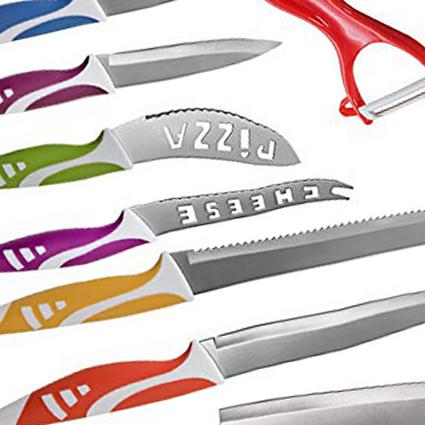knife: (1, 282, 425, 424), (1, 39, 281, 115)
